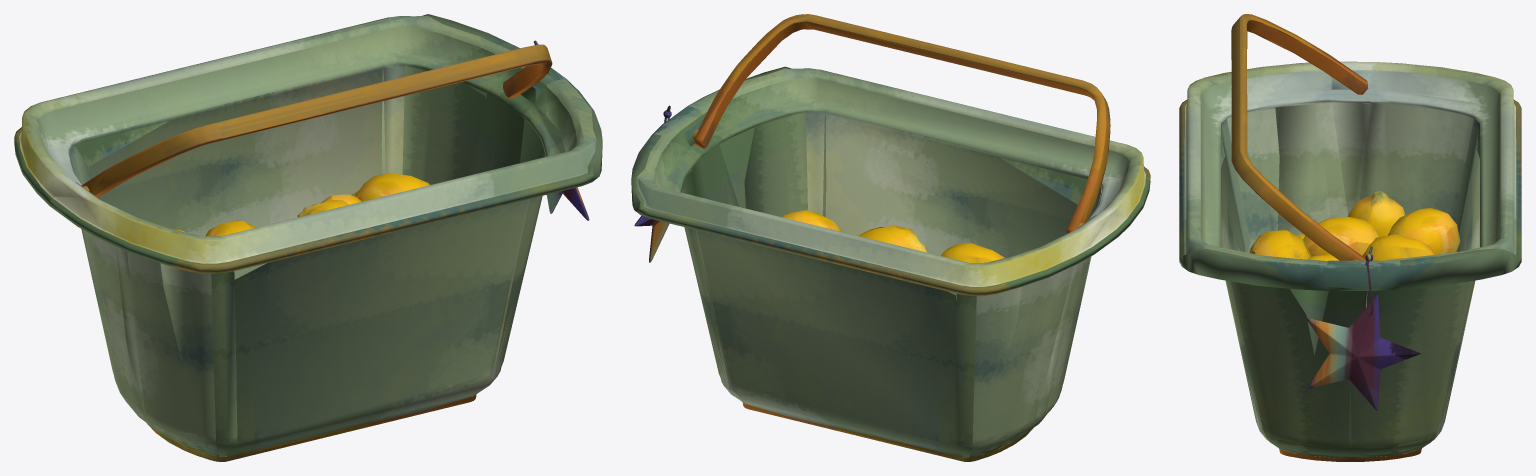
The model's file is LO_basket_filled_star.glb.
3 renders of one model, left to right at view 1: azimuth 30°, elevation 25°; view 2: azimuth 150°, elevation 25°; view 3: azimuth 270°, elevation 25°, orthographic. The views are drawn at different scales.
Visible parts, largest first — view 1: grren.001, Gold_star; view 2: grren.001, Gold_star; view 3: grren.001, Gold_star.
Boxes of the visible parts, x1=… form: grren.001: x1=14, y1=14, x2=602, y2=461; Gold_star: x1=533, y1=40, x2=589, y2=220; grren.001: x1=631, y1=14, x2=1150, y2=461; Gold_star: x1=634, y1=105, x2=671, y2=262; grren.001: x1=1179, y1=14, x2=1521, y2=461; Gold_star: x1=1306, y1=246, x2=1420, y2=410.
Size of the model in its own units: 0.5343 by 0.3664 by 0.3603.
3 materials, 3 textured.
